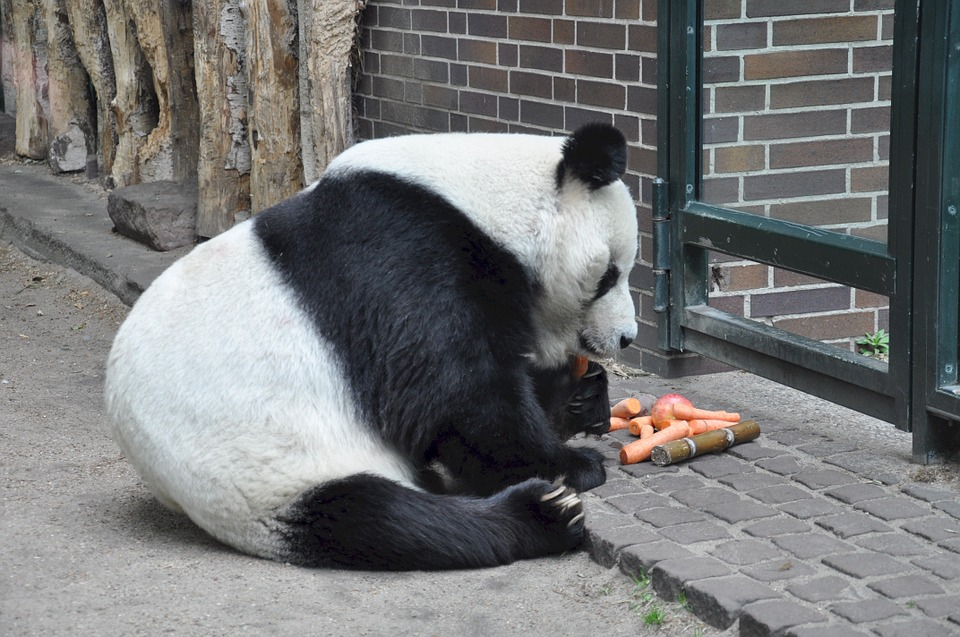panda: (99, 108, 690, 566)
